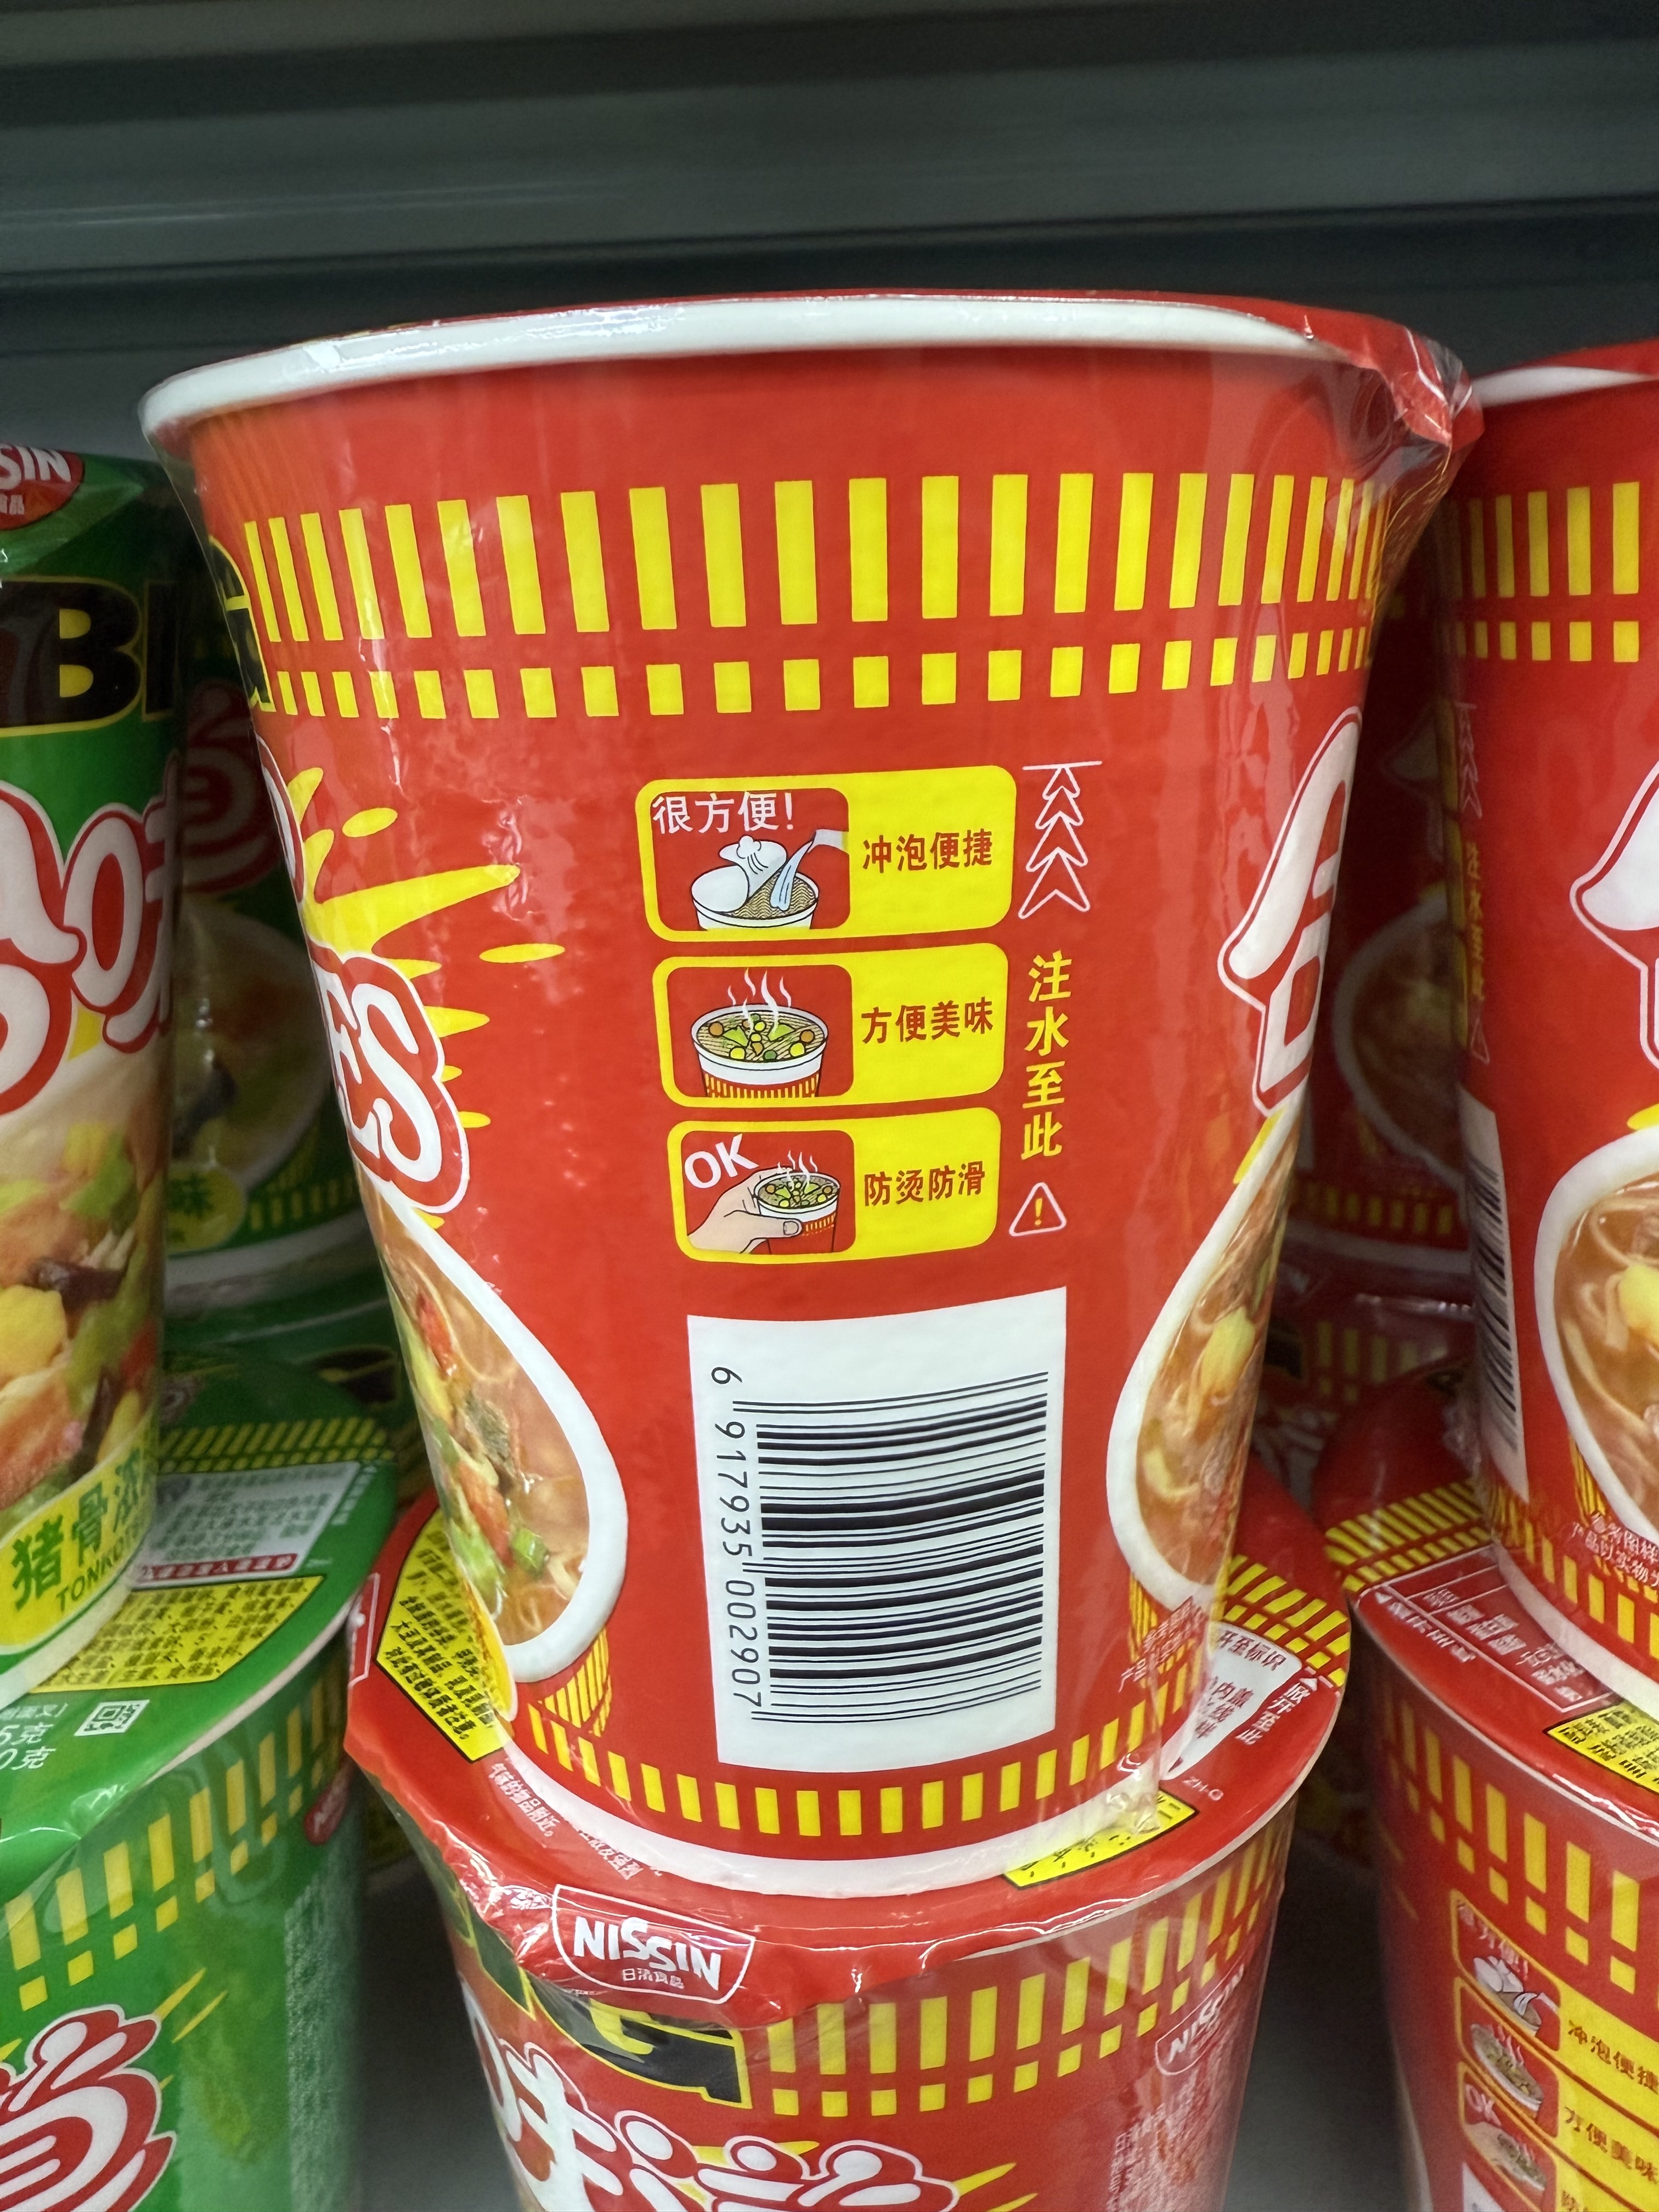bar: (727, 1369, 1046, 1724)
